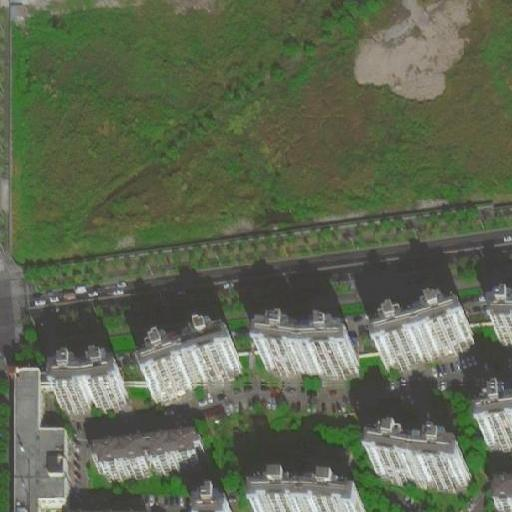building: (11, 371, 68, 512), (148, 349, 246, 405), (96, 438, 204, 481), (378, 452, 471, 495), (251, 478, 364, 512), (381, 322, 474, 362), (264, 333, 357, 371), (56, 371, 126, 409), (304, 437, 354, 470), (183, 489, 222, 512), (482, 425, 512, 453), (493, 317, 511, 350)
